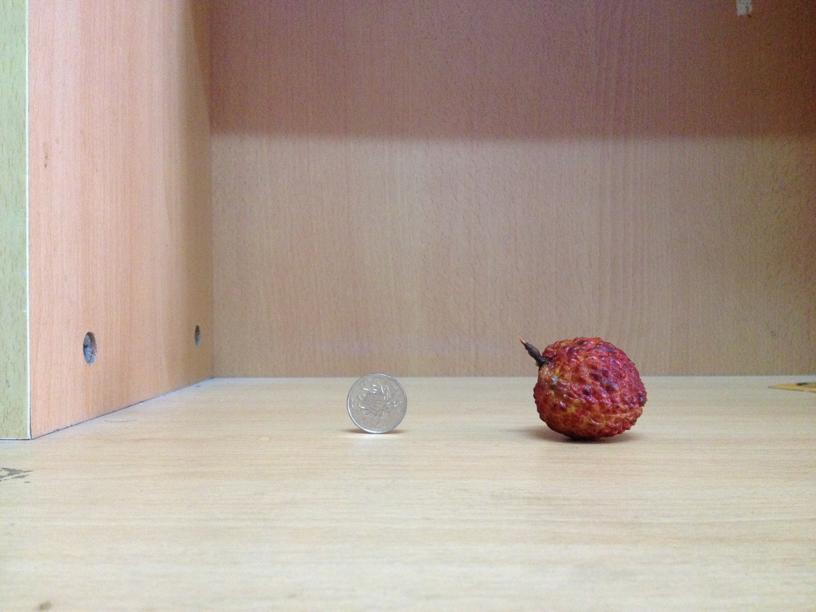coin: (345, 372, 407, 434)
litchi: (531, 335, 647, 442)
